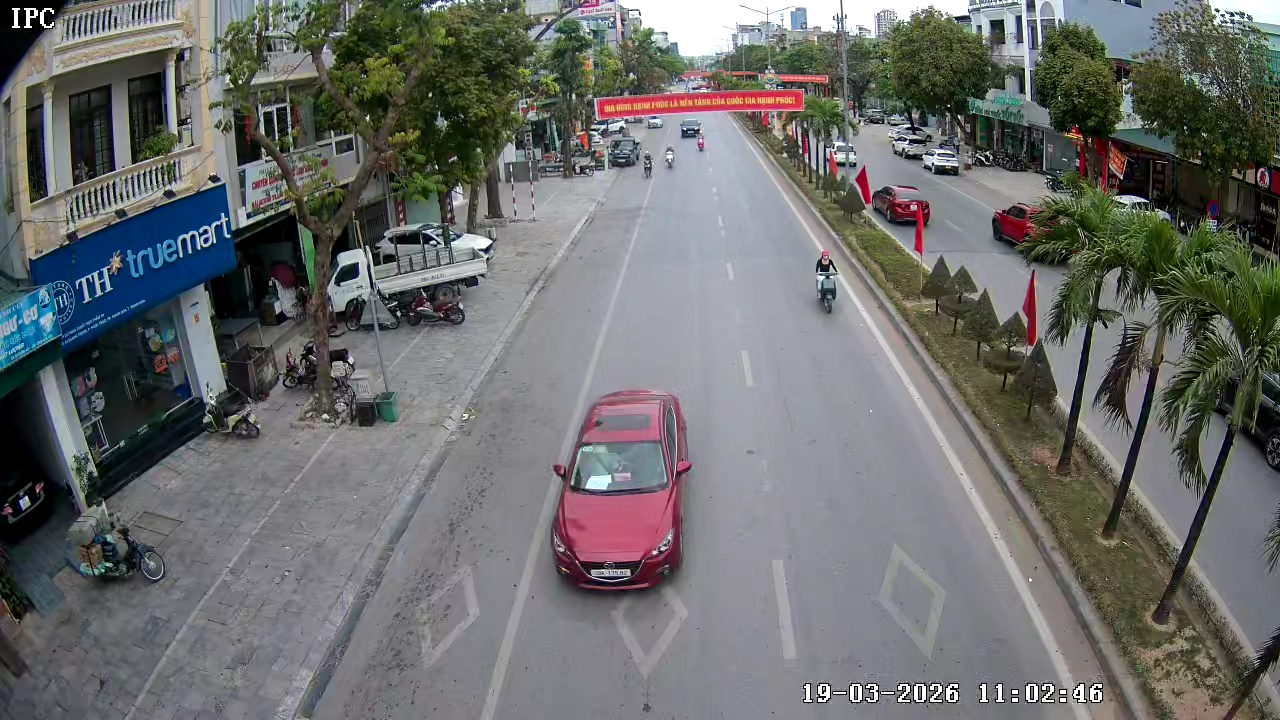car: (549, 388, 695, 594), (868, 180, 933, 227), (678, 114, 705, 139)
motorbike: (70, 498, 168, 586), (812, 249, 841, 316), (639, 146, 655, 178), (661, 142, 676, 171)
truck: (611, 134, 646, 168)
